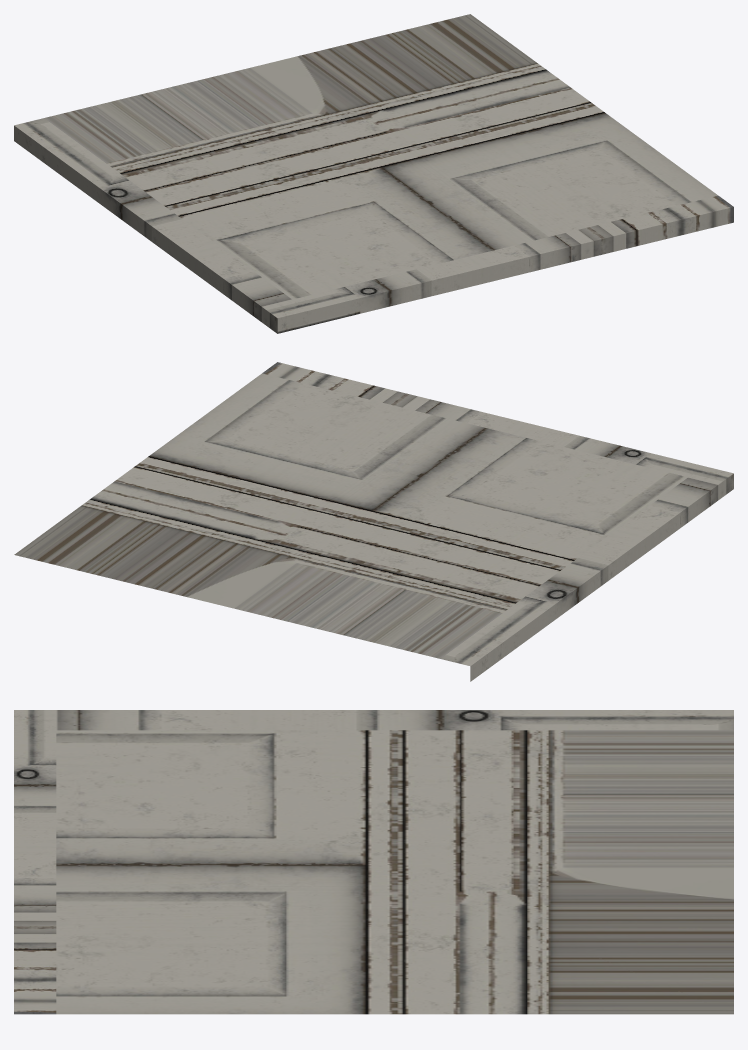
Rendered from SideWalk_4.fbx.
3 views of the same model, one above another, from view 1: azimuth 30°, elevation 25°; view 2: azimuth 150°, elevation 25°; view 3: azimuth 270°, elevation 25° (orthographic). The views are drawn at different scales.
Parts seen in each view (by area): view 1: SideWalk_4; view 2: SideWalk_4; view 3: SideWalk_4.
Boxes of the visible parts, x1,y1,x2,y2 form: SideWalk_4: (14, 14, 733, 333); SideWalk_4: (14, 362, 733, 681); SideWalk_4: (14, 710, 733, 1014).
Bounding box in the file's own units: 2 × 0.0656 × 2.
